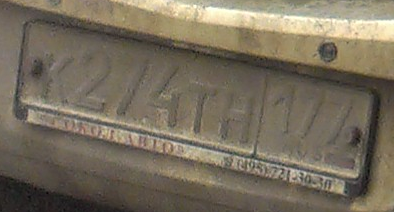character: (112, 47, 149, 128), (145, 57, 183, 134), (73, 42, 111, 117), (217, 87, 253, 154), (184, 77, 219, 145), (38, 48, 76, 110), (322, 91, 359, 154), (296, 79, 325, 146), (270, 79, 296, 142)
